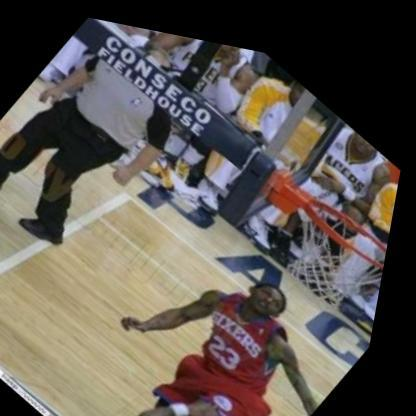rim: (265, 164, 400, 315)
